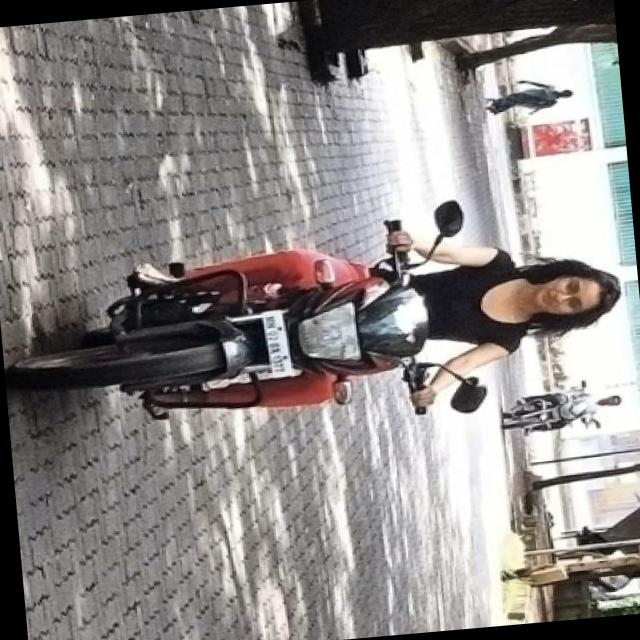bareface: (512, 253, 632, 338)
